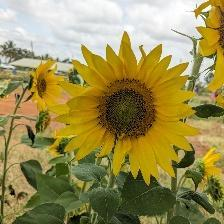sunflower: (53, 27, 203, 189)
